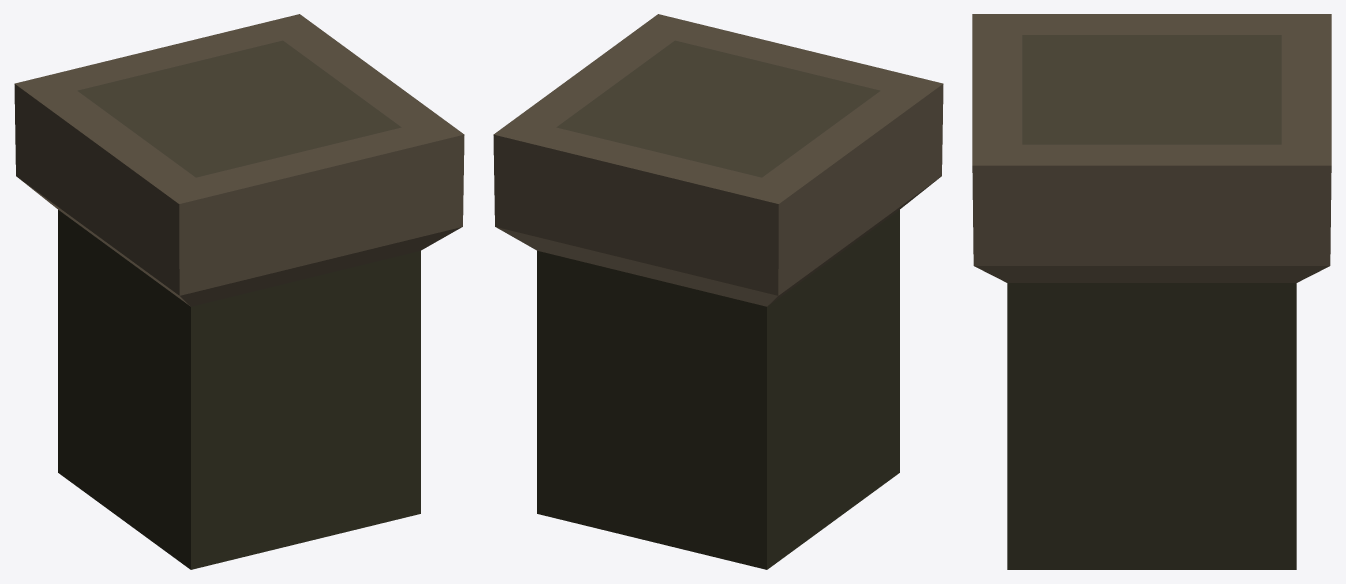
The model's file is Chimney_2_D_2.fbx.
The picture shows the model from 3 angles, left to right: view 1: azimuth 30°, elevation 25°; view 2: azimuth 150°, elevation 25°; view 3: azimuth 270°, elevation 25°; orthographic projection. The views are drawn at different scales.
Visible parts, largest first — view 1: Chimney_2_D_2; view 2: Chimney_2_D_2; view 3: Chimney_2_D_2.
Part boxes in pixels (x1,y1,x2,y2): Chimney_2_D_2: [14, 14, 464, 569]; Chimney_2_D_2: [493, 14, 943, 569]; Chimney_2_D_2: [972, 14, 1331, 569].
Size of the model in its own units: 63.29 by 81.45 by 63.29.
